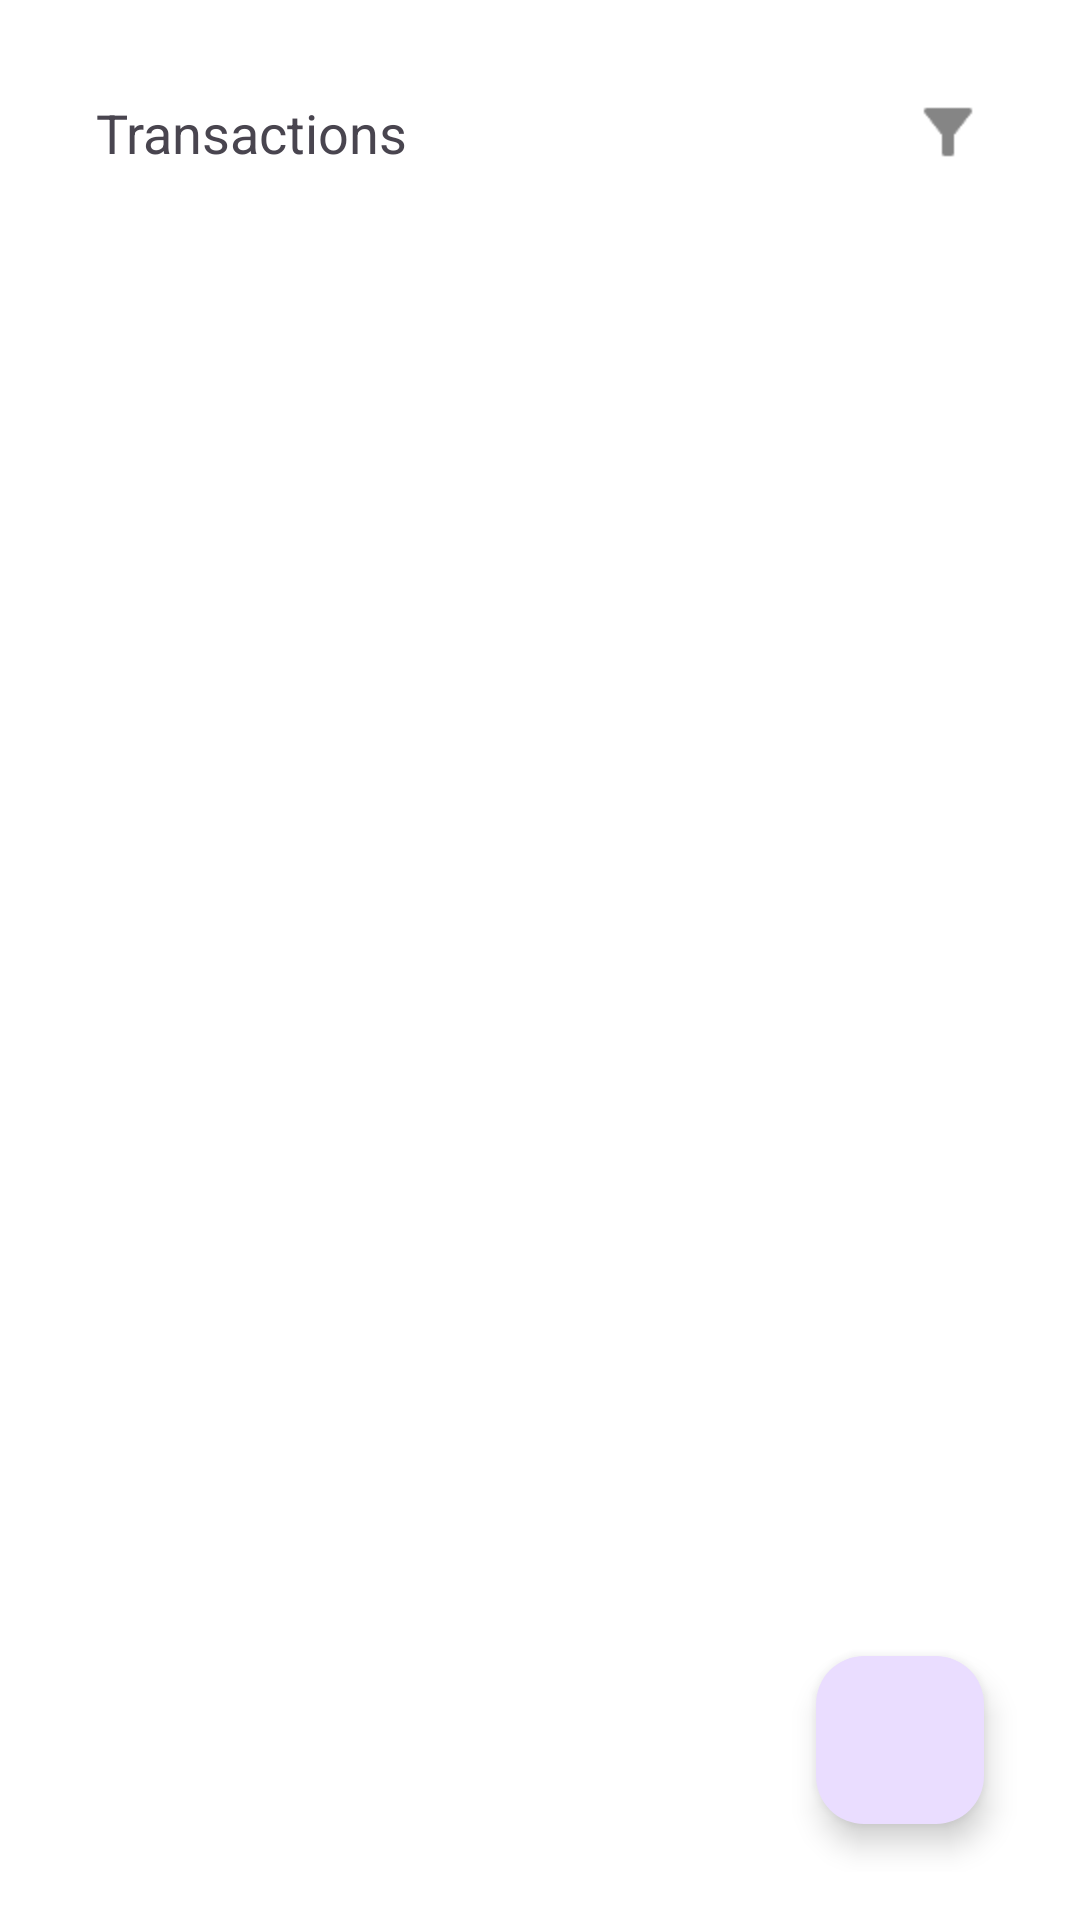

Named icons in this screenshot (1080*1920) and their centers, (x,y):
filter: (948,132)
